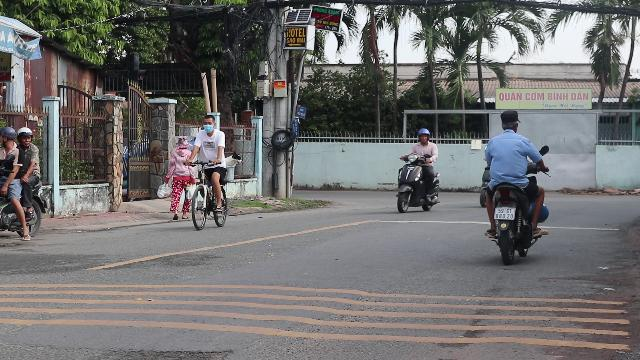helmet: (1, 126, 16, 146), (17, 127, 33, 145)
licenseplate: (494, 207, 514, 219)
motorcyclist: (478, 110, 550, 262), (0, 124, 48, 248)
nohelmet: (498, 108, 520, 132)
